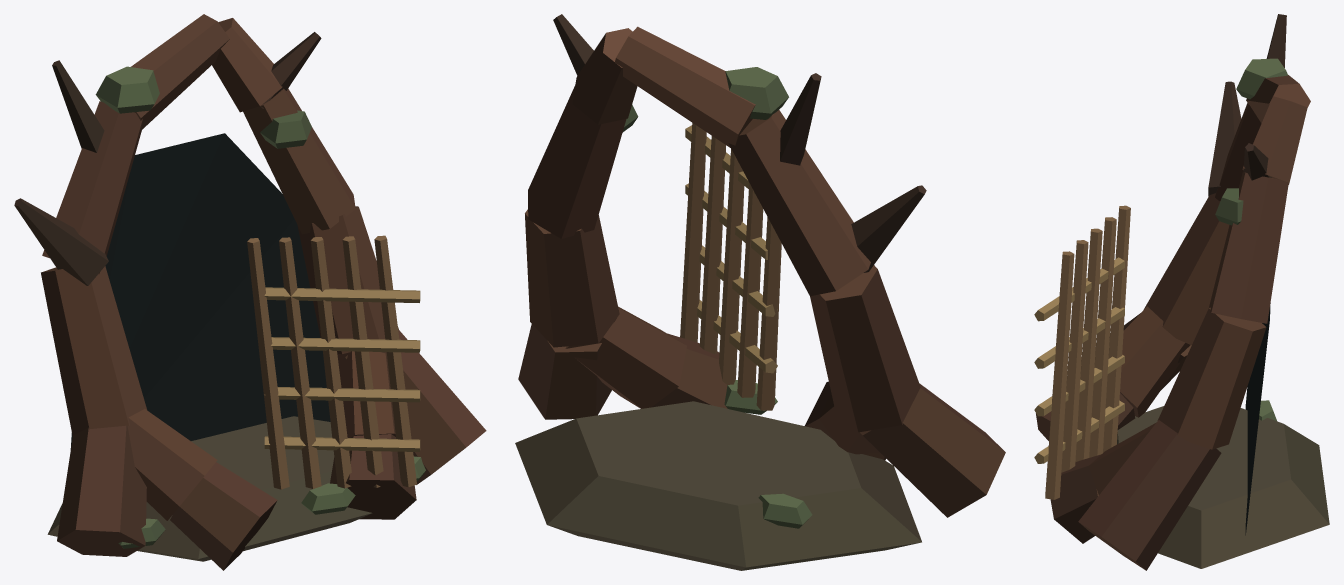
File: root-screen.glb
The picture shows the model from 3 angles, left to right: view 1: azimuth 30°, elevation 25°; view 2: azimuth 150°, elevation 25°; view 3: azimuth 270°, elevation 25°; orthographic projection. The views are drawn at different scales.
Visible parts, largest first — view 1: The three-root screen; view 2: The three-root screen; view 3: The three-root screen.
Boxes of the visible parts, left/top/right/bottom form: The three-root screen: left=14, top=14, right=486, bottom=570; The three-root screen: left=515, top=14, right=1005, bottom=570; The three-root screen: left=1034, top=14, right=1329, bottom=570.
Size of the model in its own units: 1.13 by 1.17 by 0.7314.
